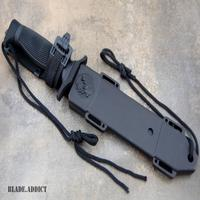knife: (5, 15, 199, 174)
